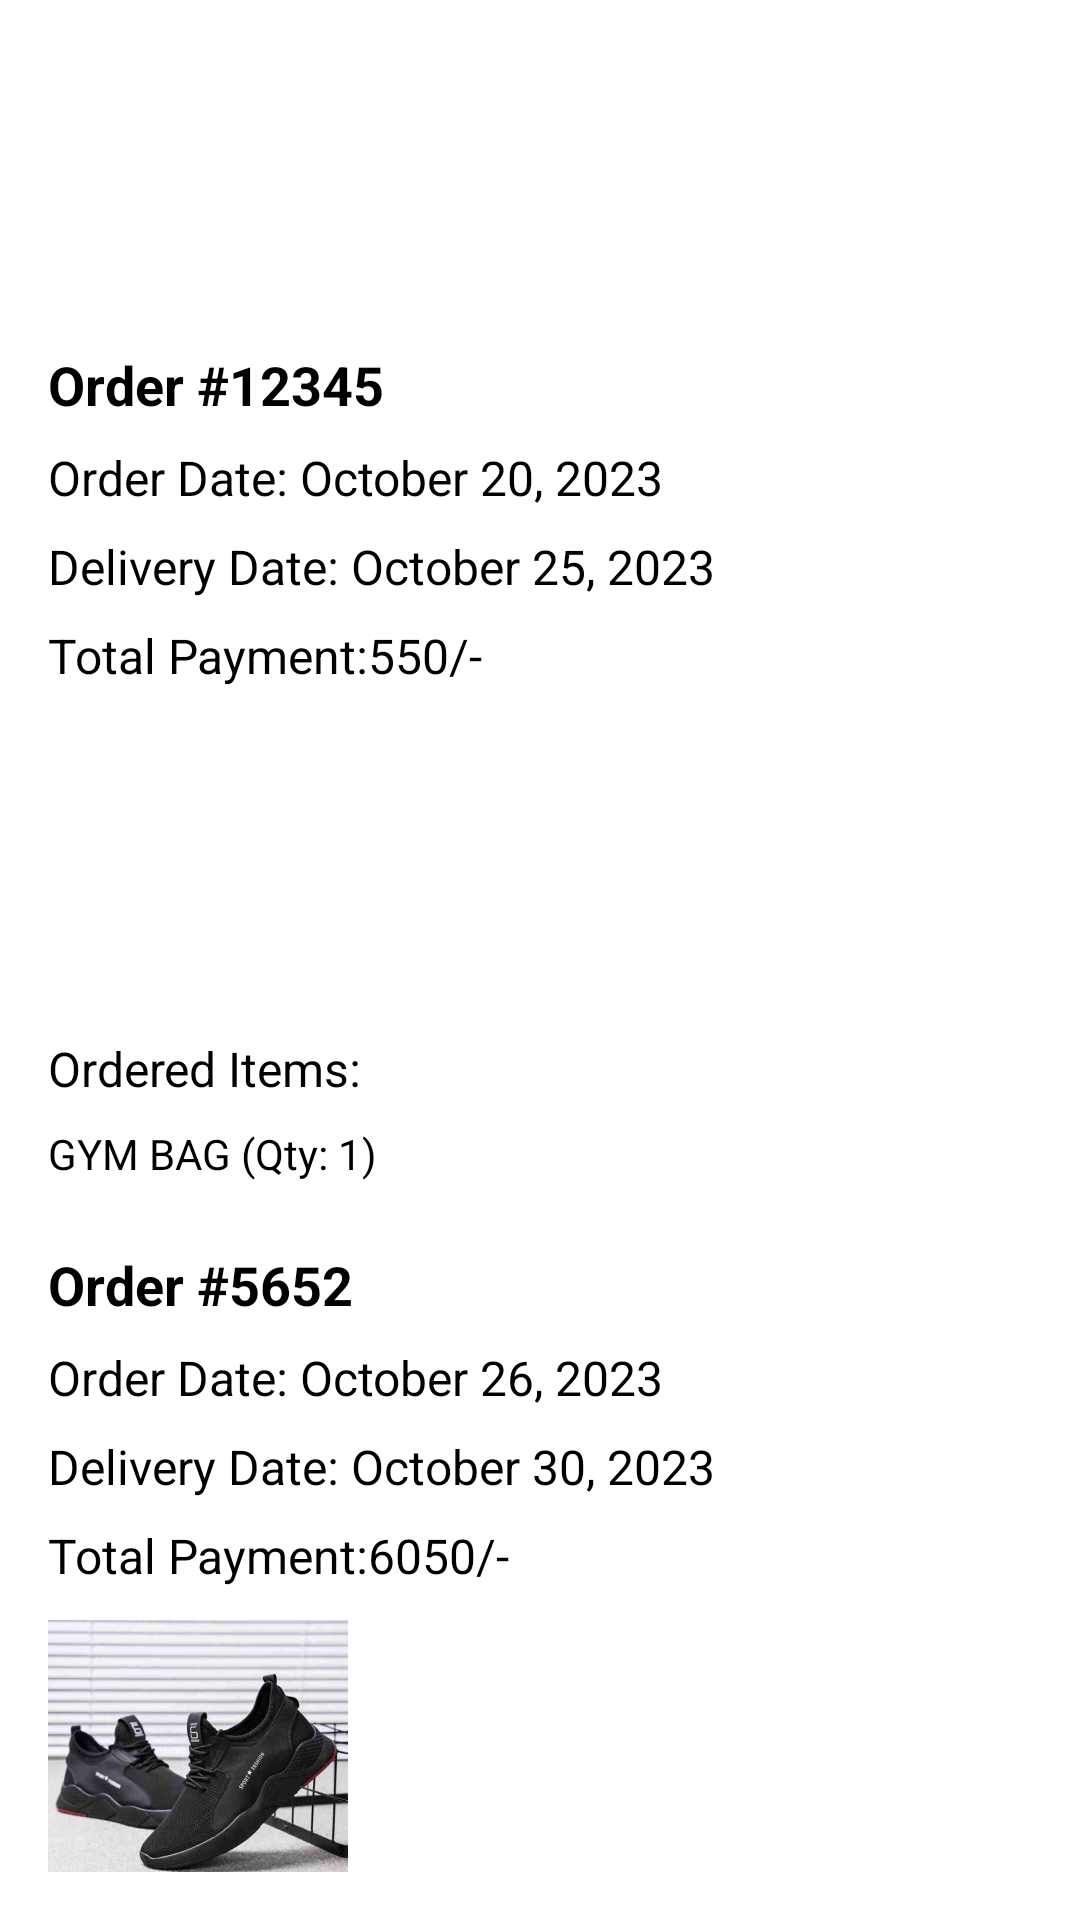

Icon bounding boxes for this 1080*1920 phone screenshot, format (x1, y1, x2, y2):
shoes: (48, 1620, 348, 1872)
